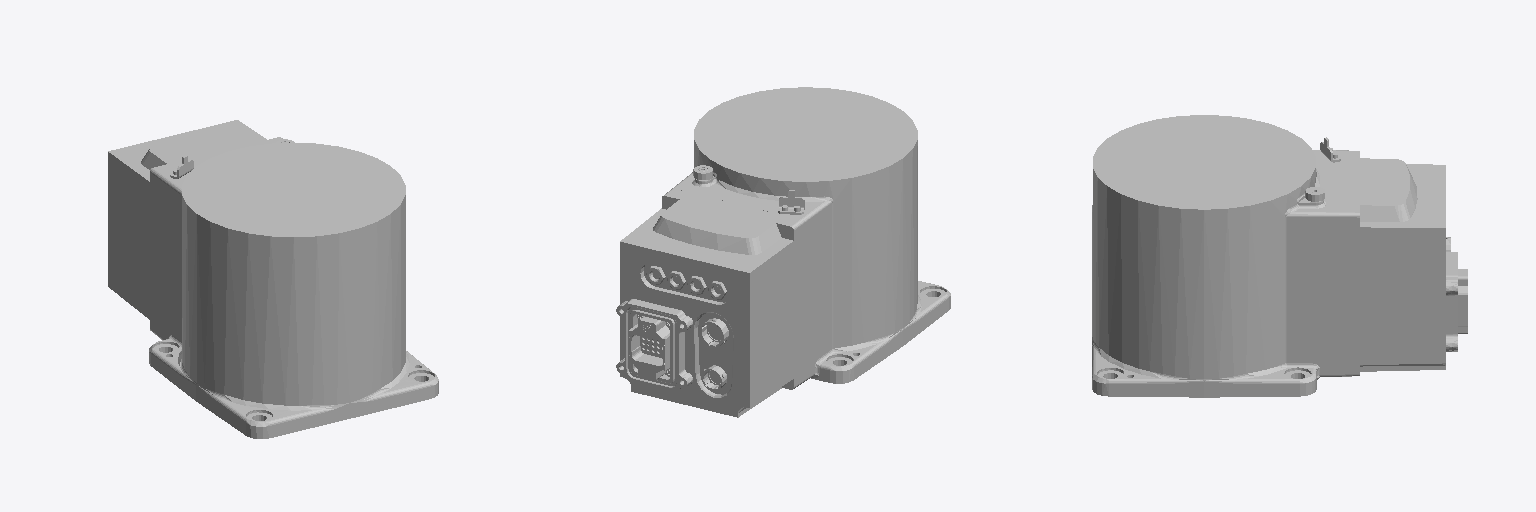
The model's file is irb120joint0.obj.
3 renders of one model, left to right at view 1: azimuth 30°, elevation 25°; view 2: azimuth 150°, elevation 25°; view 3: azimuth 270°, elevation 25°, orthographic.
Parts seen in each view (by area): view 1: irb120joint0; view 2: irb120joint0; view 3: irb120joint0.
Boxes of the visible parts, x1=… form: irb120joint0: x1=108, y1=120, x2=438, y2=438; irb120joint0: x1=616, y1=87, x2=950, y2=417; irb120joint0: x1=1092, y1=115, x2=1467, y2=397.
Bounding box in the file's own units: 9.03 × 8.32 × 15.06.